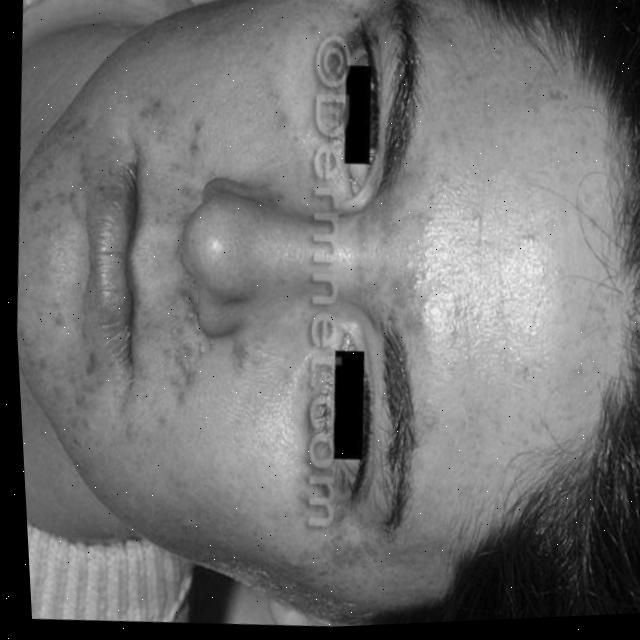Rosacea: (9, 82, 240, 438), (342, 169, 448, 331), (273, 409, 376, 574)
